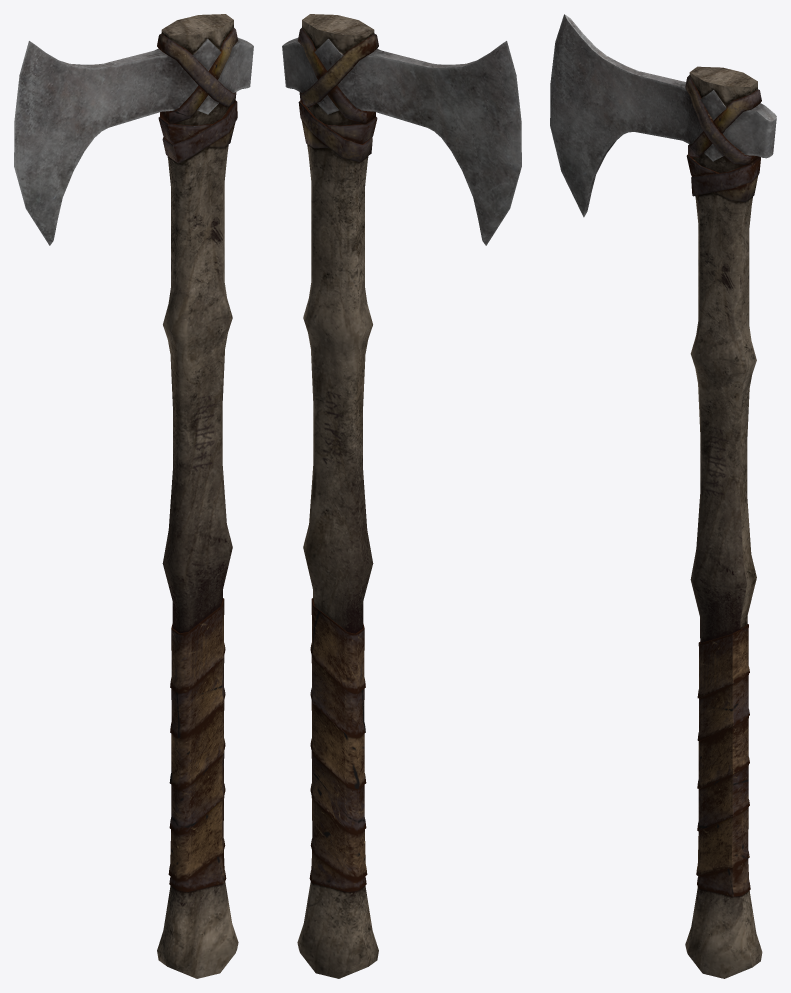
Rendered from axe (3).glb.
3 views of the same model, side by side, from view 1: azimuth 30°, elevation 25°; view 2: azimuth 150°, elevation 25°; view 3: azimuth 330°, elevation 25° (orthographic). The views are drawn at different scales.
Parts seen in each view (by area): view 1: Cube.003; view 2: Cube.003; view 3: Cube.003.
Boxes of the visible parts, box(x1,y1,x2,y2) form: Cube.003: box(14, 14, 253, 978); Cube.003: box(282, 14, 521, 978); Cube.003: box(550, 14, 776, 978).
Bounding box in the file's own units: 138 × 538 × 26.97.
Materials: 1 (1 with a texture image).
